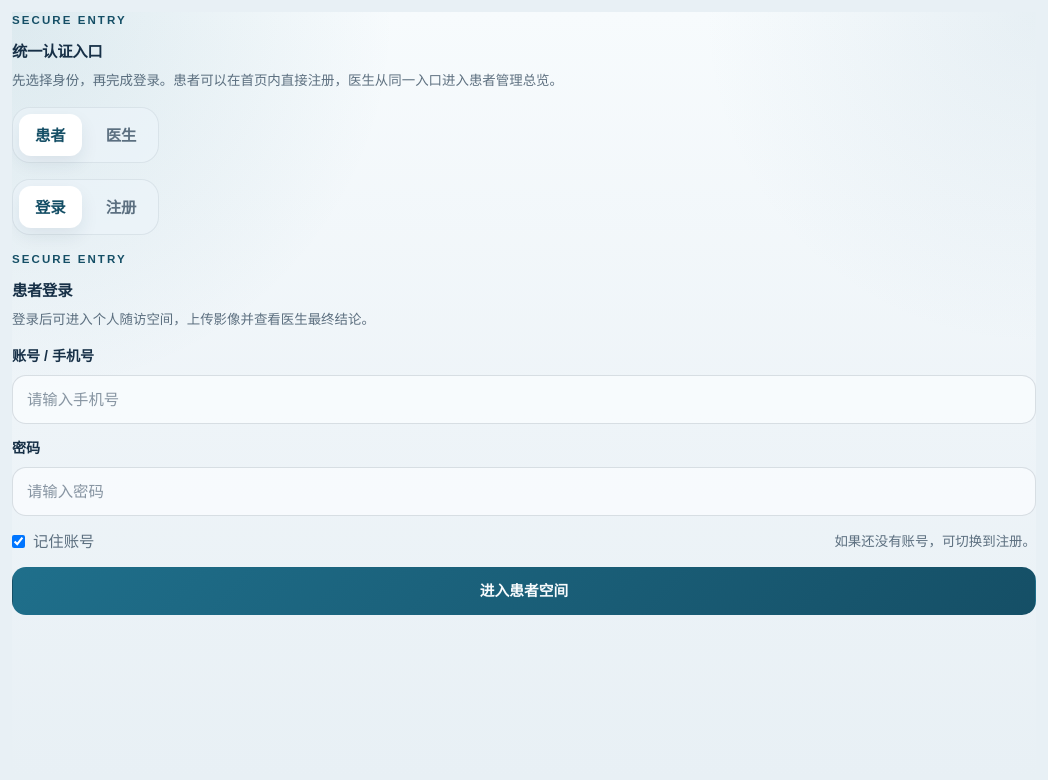
Scenario: UnifiedAuthCard › switches from patient login to patient register
Click the button "注册". click: (121, 207)
box: [90,186,152,228]
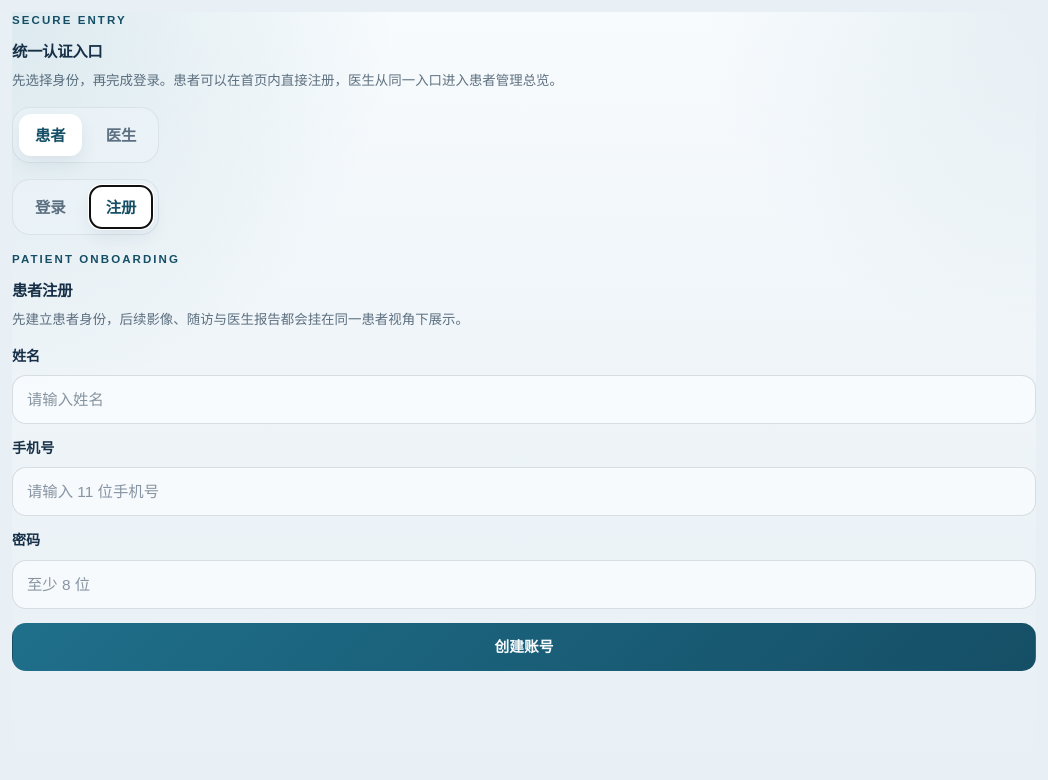
Now the field labelled "姓名" is shown, box [12,375,1036,424]
Now the heading "患者注册" is shown, box [12,282,72,299]
